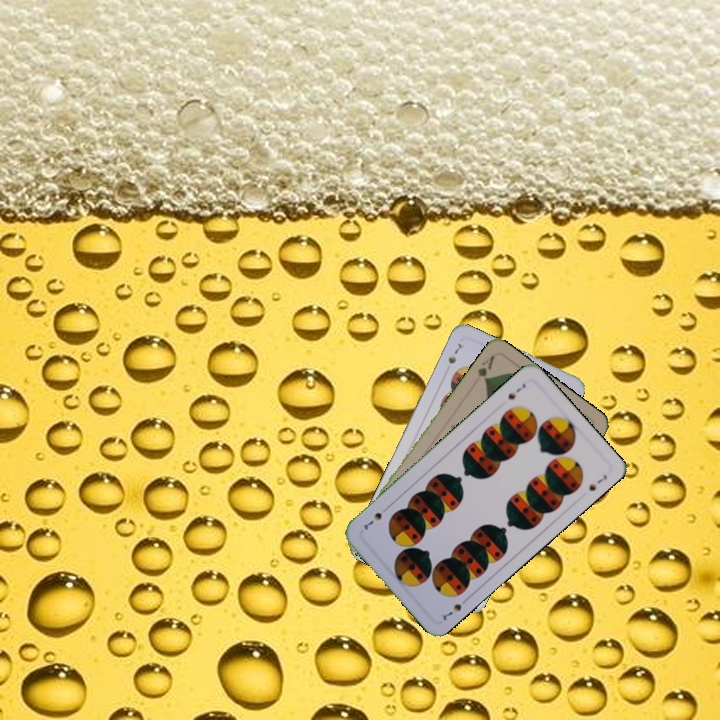GA: (474, 351, 498, 384)
S7: (436, 593, 471, 623), (444, 339, 465, 366), (504, 379, 528, 402)
